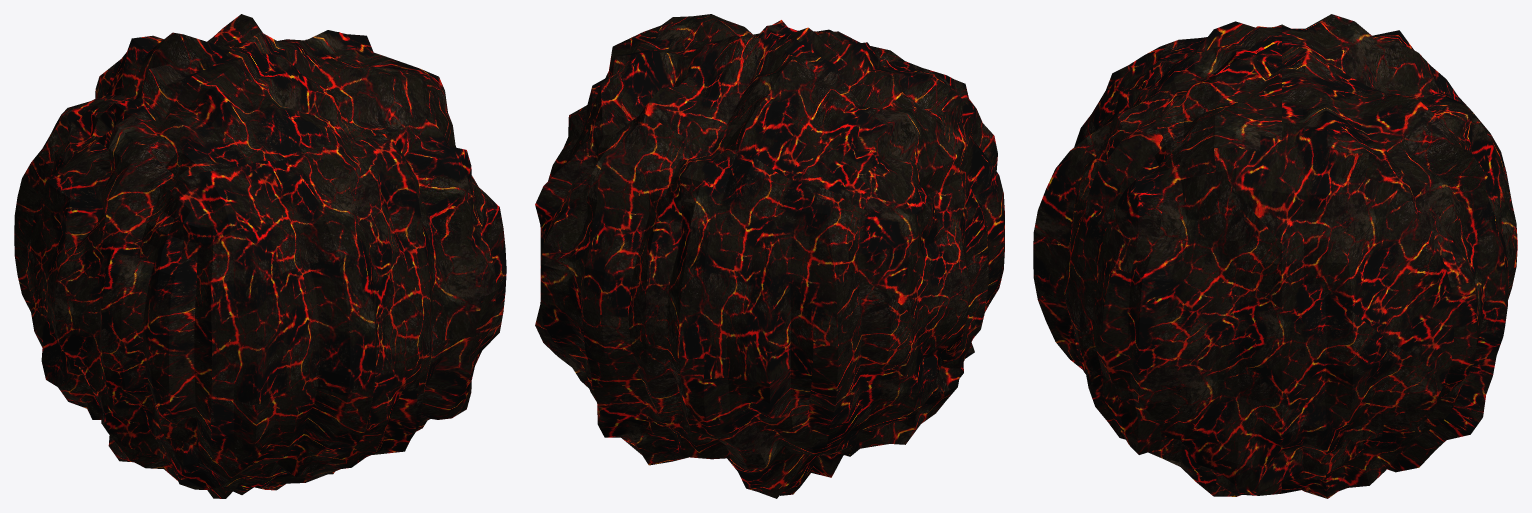
The model's file is asteroid51.obj.
The picture shows the model from 3 angles, left to right: view 1: azimuth 30°, elevation 25°; view 2: azimuth 150°, elevation 25°; view 3: azimuth 270°, elevation 25°; orthographic projection.
Parts seen in each view (by area): view 1: Cube_Cube.002; view 2: Cube_Cube.002; view 3: Cube_Cube.002.
Boxes of the visible parts, left/top/right/bottom form: Cube_Cube.002: left=14, top=14, right=506, bottom=498; Cube_Cube.002: left=535, top=14, right=1004, bottom=498; Cube_Cube.002: left=1033, top=14, right=1517, bottom=498.
Bounding box in the file's own units: 1.7 × 1.81 × 1.8.
